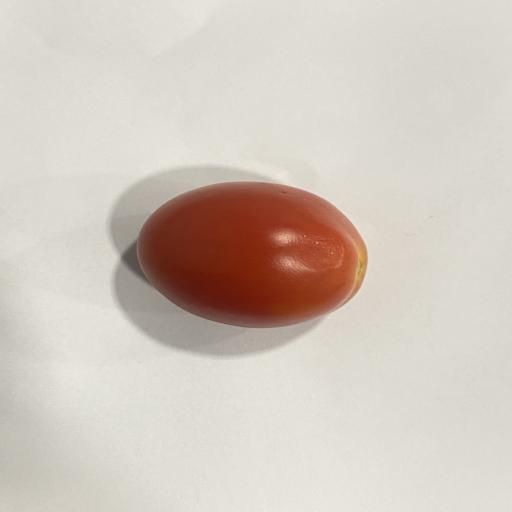ripe: (137, 182, 367, 328)
